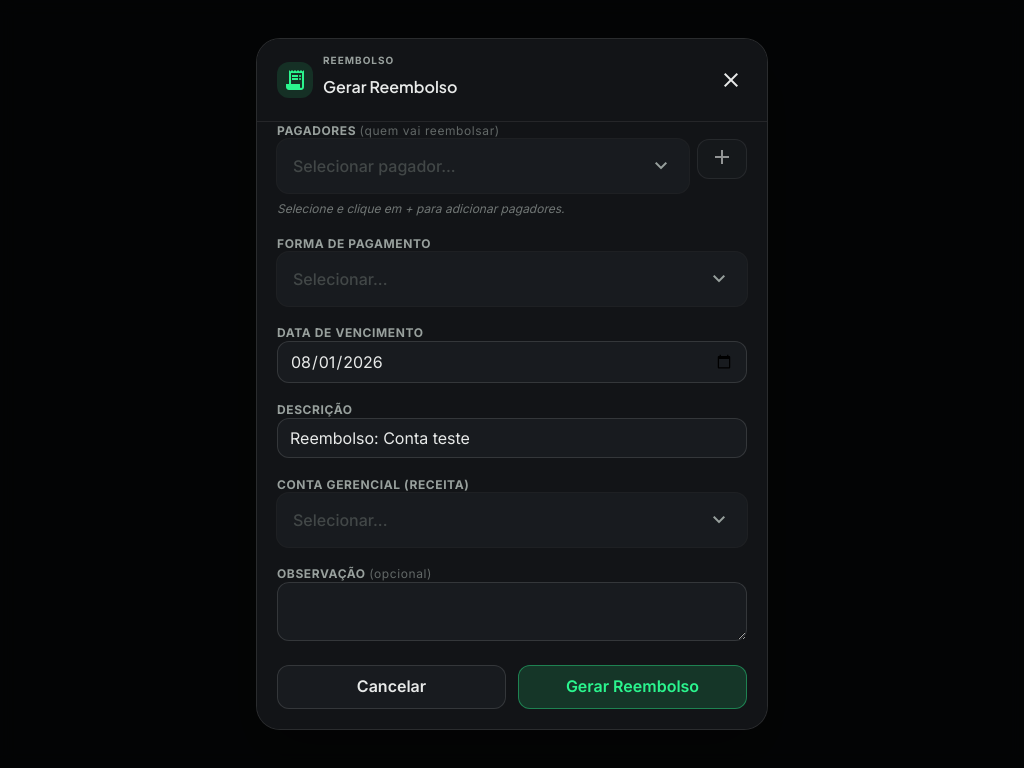
Test case: ReembolsoModal › shows error when no pagadores added on submit
(page scrolled)
Click the button "Gerar Reembolso" at [632, 687], box [518,665,747,709]
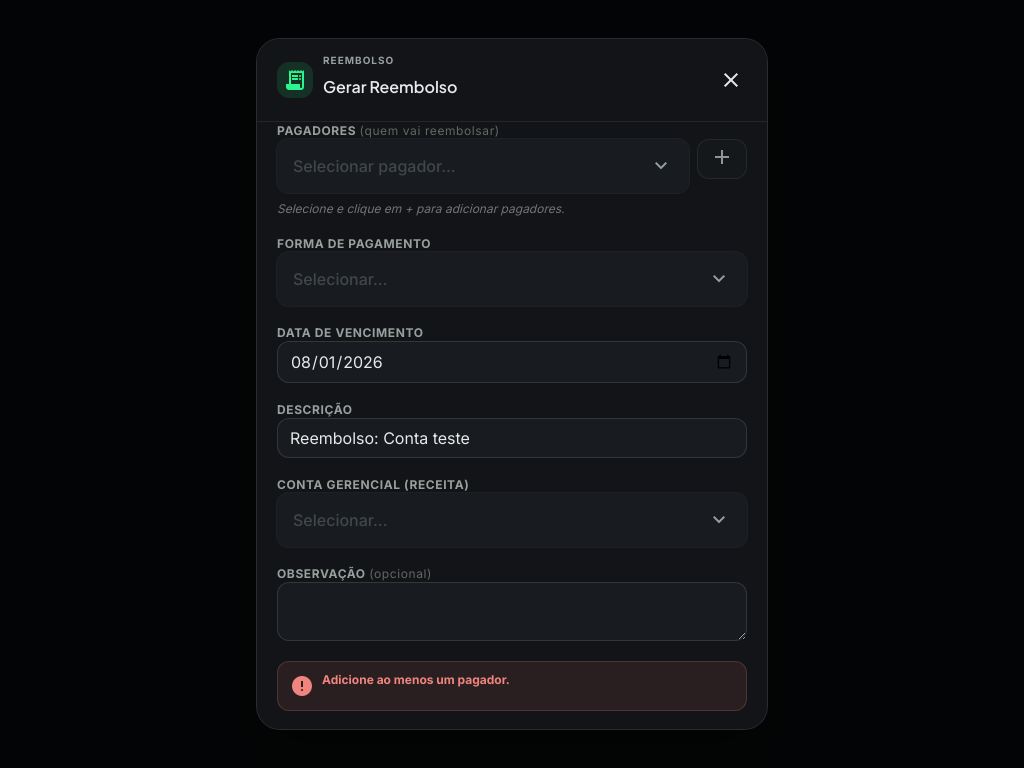
Expected: the text "Adicione ao menos um pagador." is shown, [322,672,510,688]
